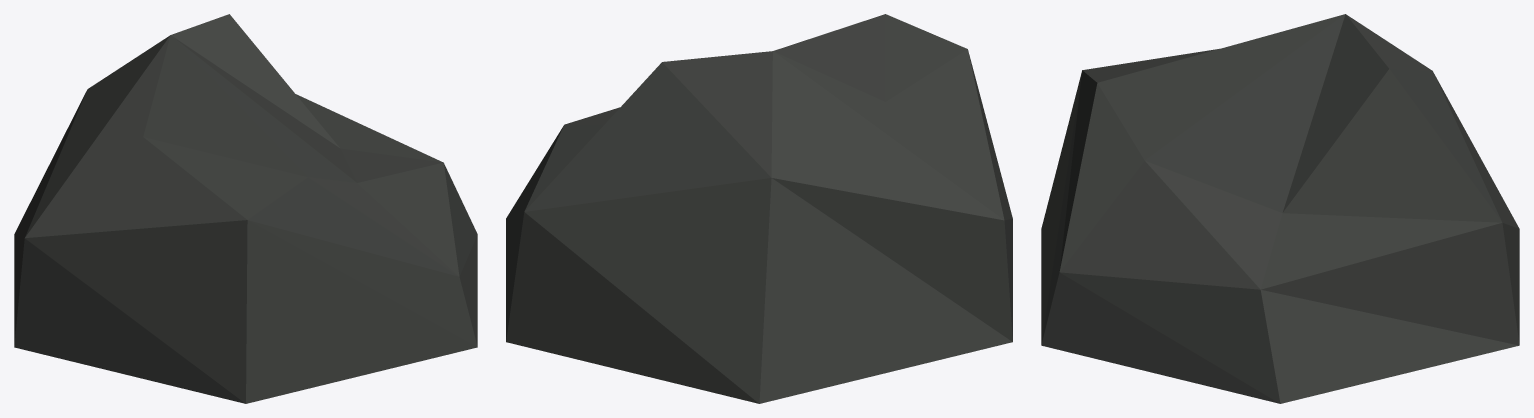
The model's file is Rock_Black_2.fbx.
The picture shows the model from 3 angles, left to right: view 1: azimuth 30°, elevation 25°; view 2: azimuth 150°, elevation 25°; view 3: azimuth 270°, elevation 25°; orthographic projection. The views are drawn at different scales.
Visible parts, largest first — view 1: Rock_Black_2; view 2: Rock_Black_2; view 3: Rock_Black_2.
Boxes of the visible parts, x1=… form: Rock_Black_2: x1=14, y1=14, x2=477, y2=403; Rock_Black_2: x1=506, y1=14, x2=1012, y2=403; Rock_Black_2: x1=1041, y1=14, x2=1519, y2=403.
Size of the model in its own units: 1.46 by 0.7304 by 1.26.
